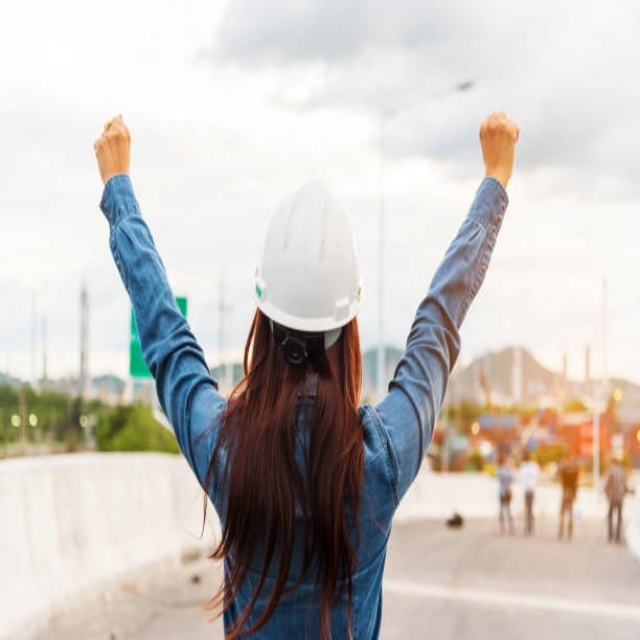Sin_guantes: (478, 110, 520, 183), (93, 112, 131, 183)
